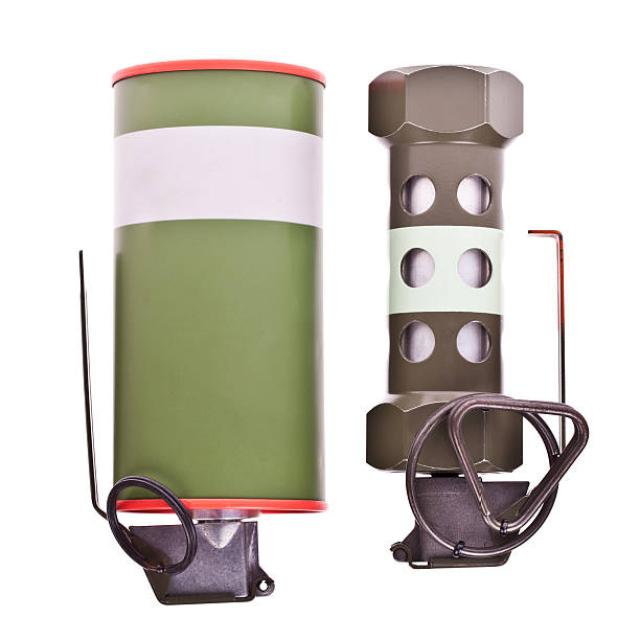grenade: (67, 59, 351, 615), (359, 59, 597, 577)
